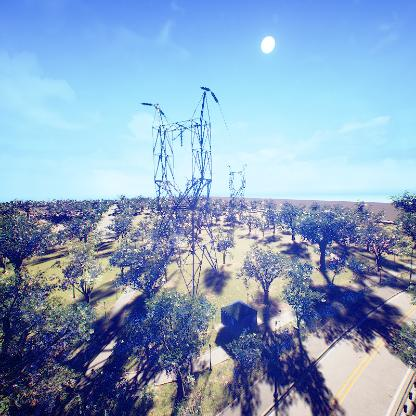tower: (138, 88, 223, 300)
